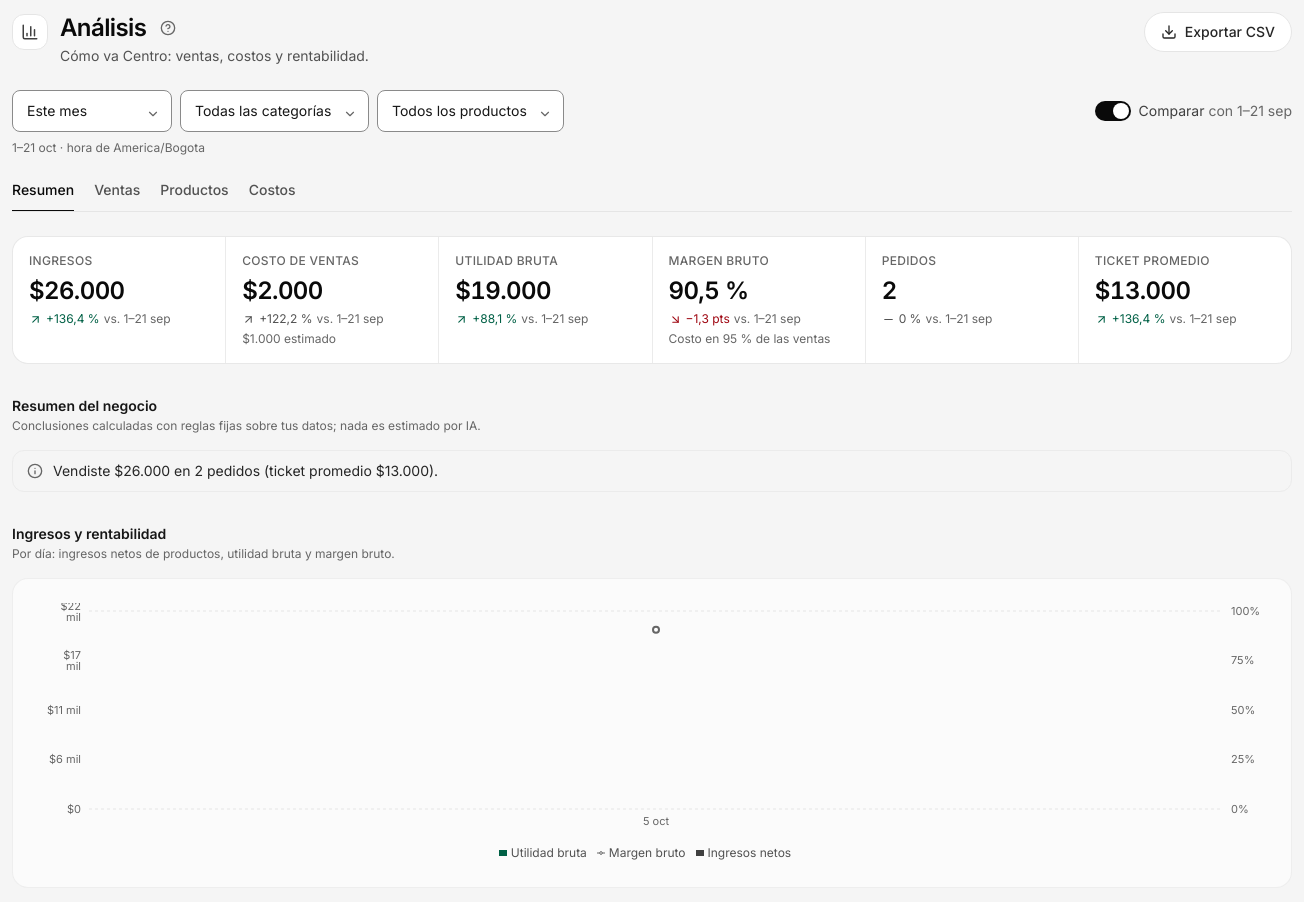
Test: Insights (ADR 0027) › the comparison can be turned off
Expected: the text "Comparar con 1–21 sep" is shown, [1139,101,1292,121]
Click the switch named "Comparar con el periodo anterior". click: (1113, 111)
box: [1095,101,1131,121]
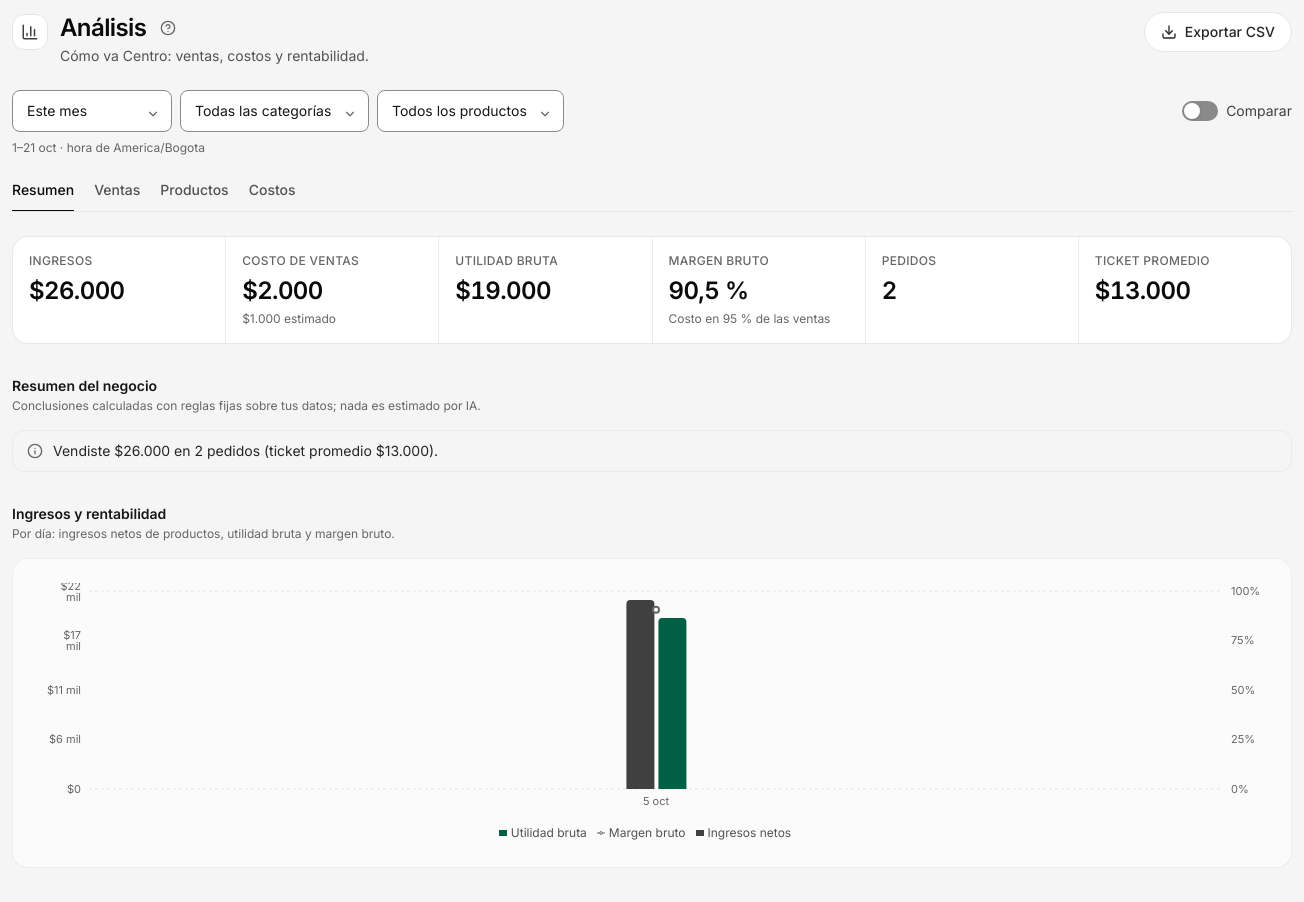
Expected: the text "Comparar" is shown, [1226,101,1292,121]
